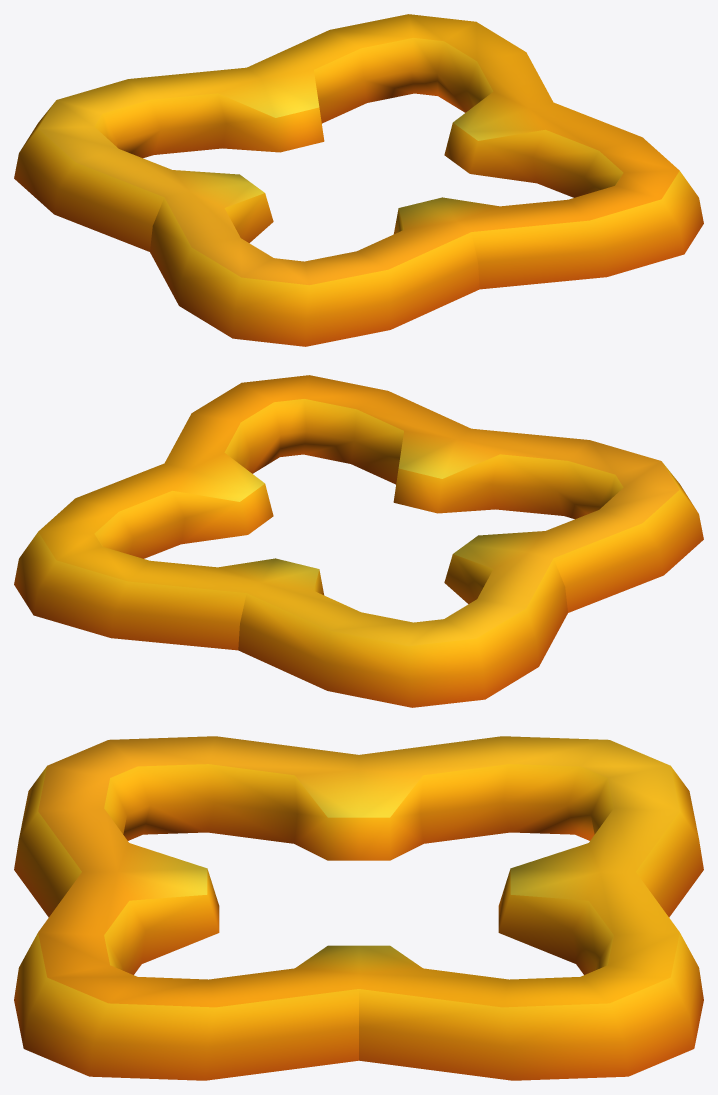
File: pepper_004.fbx
3 renders of one model, top to bottom at view 1: azimuth 30°, elevation 25°; view 2: azimuth 150°, elevation 25°; view 3: azimuth 270°, elevation 25°, orthographic. The views are drawn at different scales.
Visible parts, largest first — view 1: pepper_004; view 2: pepper_004; view 3: pepper_004.
Part boxes in pixels (x1=…): pepper_004: x1=14, y1=14, x2=703, y2=346; pepper_004: x1=14, y1=375, x2=703, y2=707; pepper_004: x1=14, y1=736, x2=703, y2=1080.
Bounding box in the file's own units: 8.67 × 8.67 × 0.8799.
